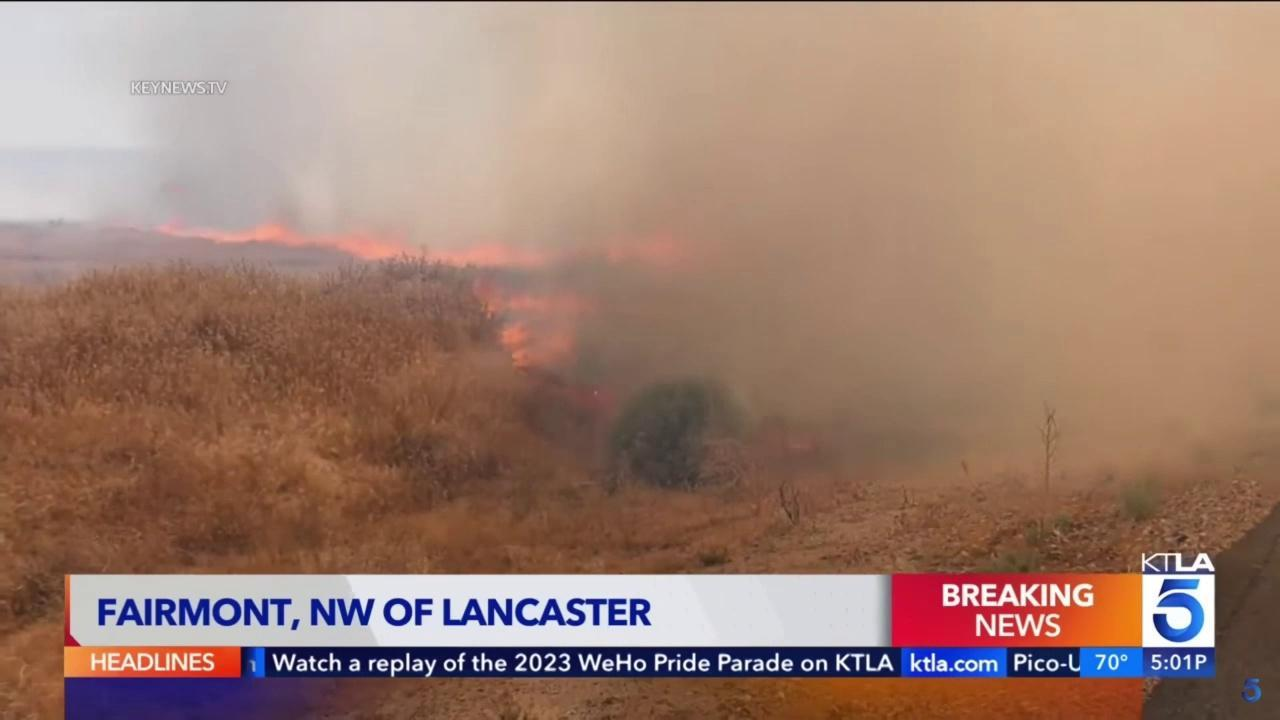fire: (148, 214, 685, 270), (466, 277, 604, 371)
smoke: (123, 1, 1280, 493)
